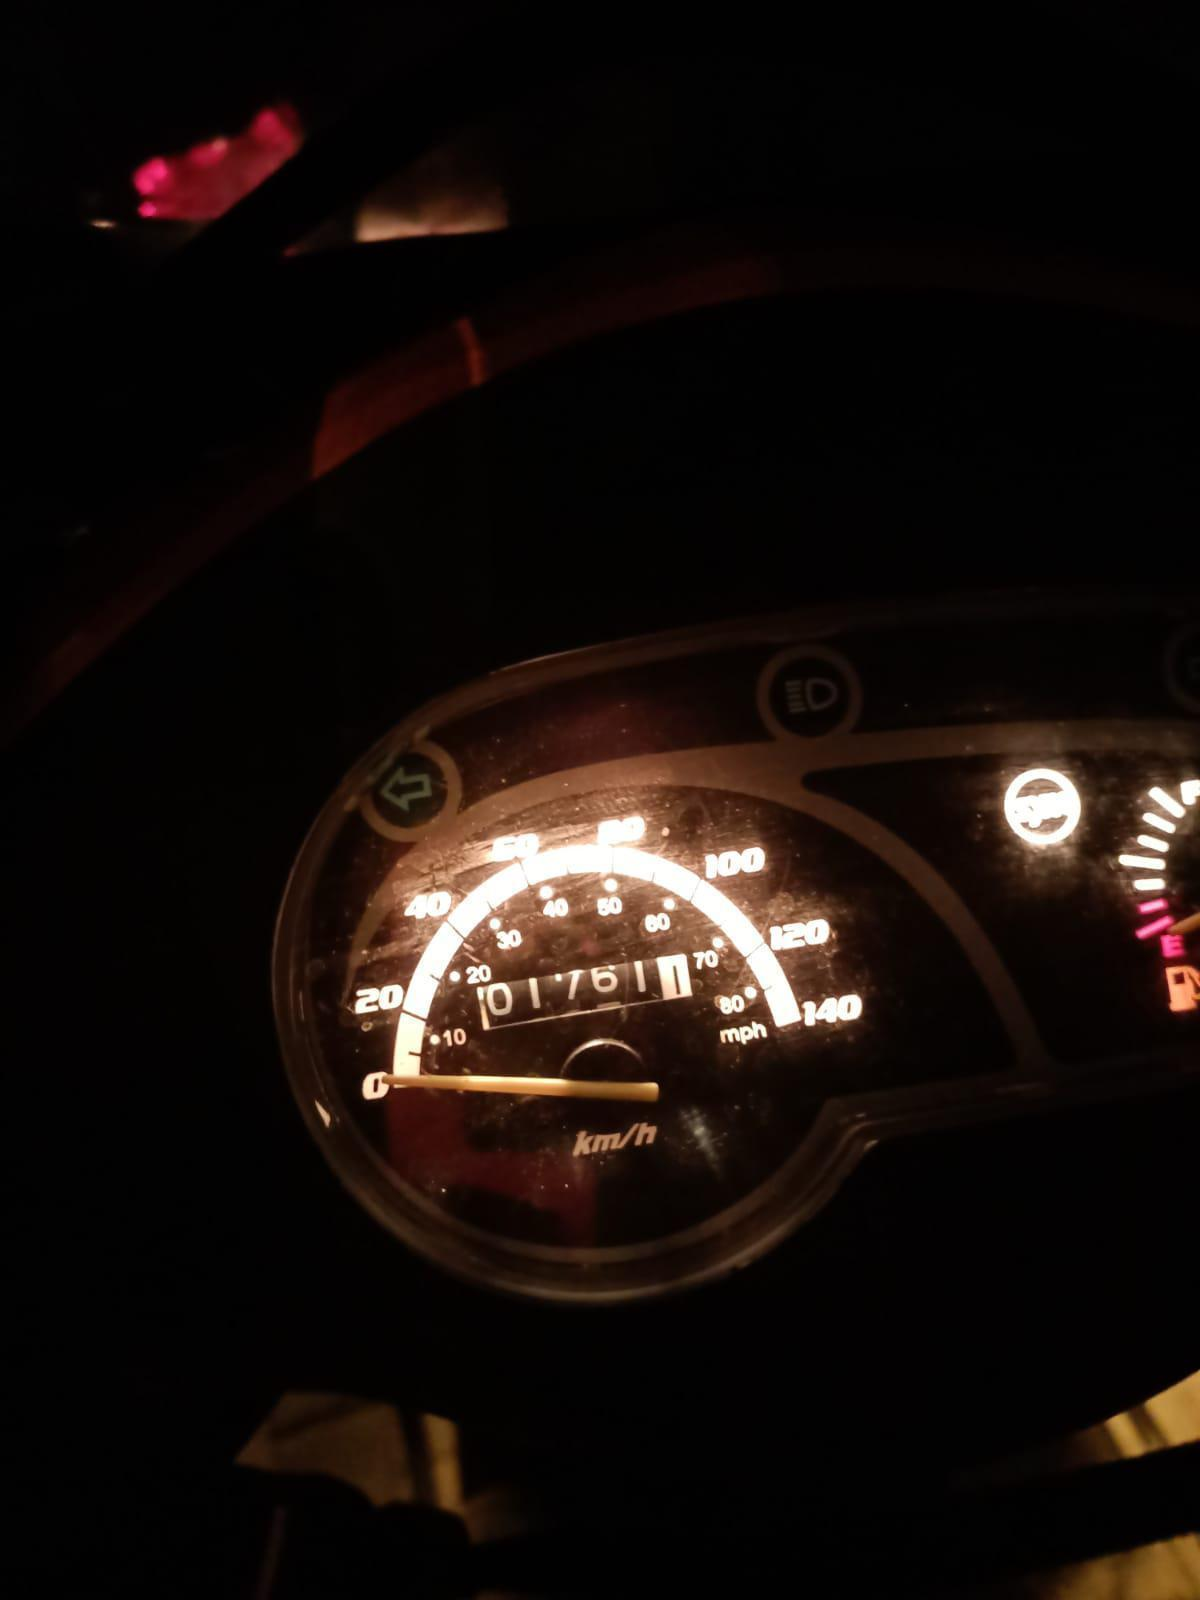0: (485, 983, 516, 1017), (478, 961, 492, 981)
1: (523, 973, 545, 1010), (630, 957, 649, 995), (667, 961, 684, 999)
6: (589, 963, 620, 994)
7: (551, 966, 584, 1002)
odometer: (475, 951, 696, 1032)
